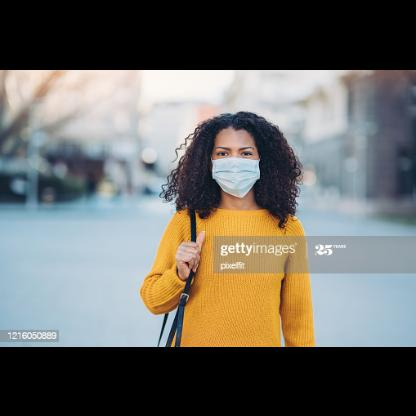Surgical Mask: (204, 131, 258, 195)
